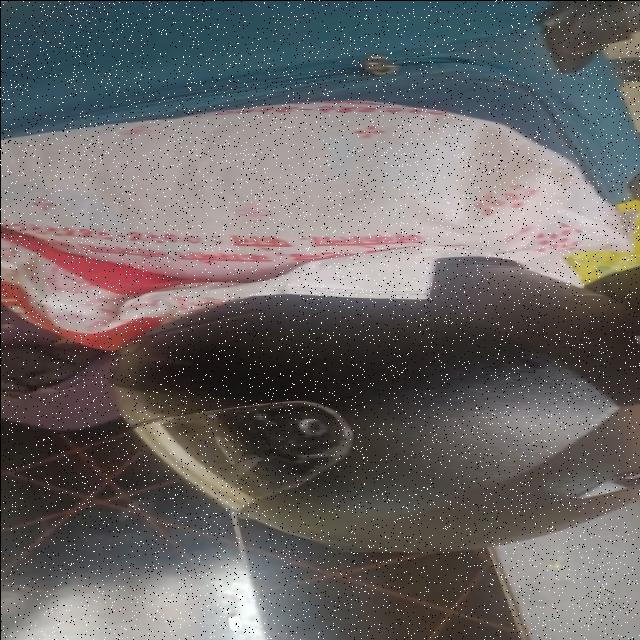Helmet: (111, 256, 640, 550)
